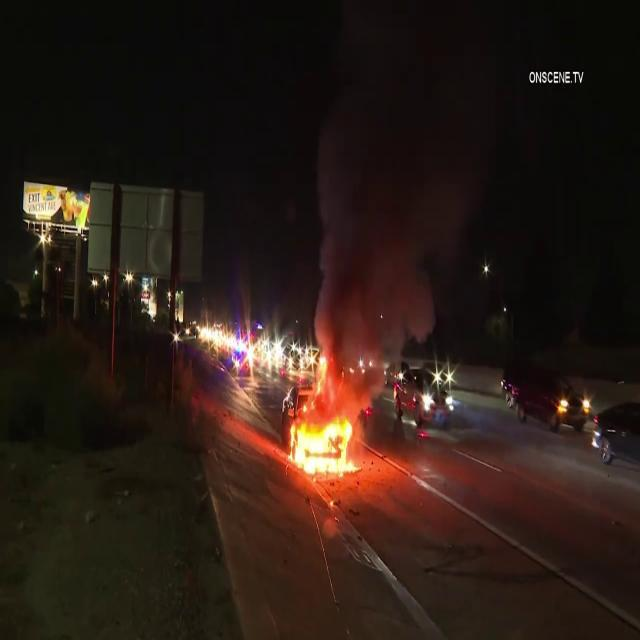Fire: (288, 402, 362, 480)
Smoke: (311, 0, 500, 384)
